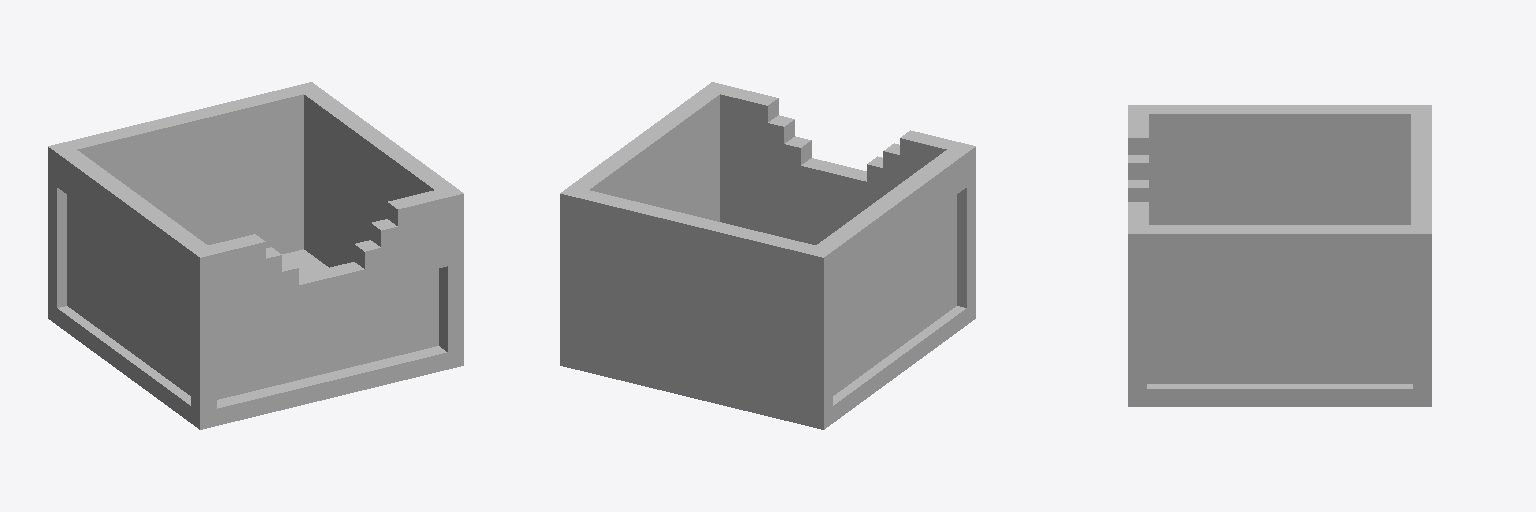
Rendered from botBoxBottom.obj.
3 views of the same model, side by side, from view 1: azimuth 30°, elevation 25°; view 2: azimuth 150°, elevation 25°; view 3: azimuth 270°, elevation 25° (orthographic).
Size of the model in its own units: 1.99 by 1.24 by 1.99.